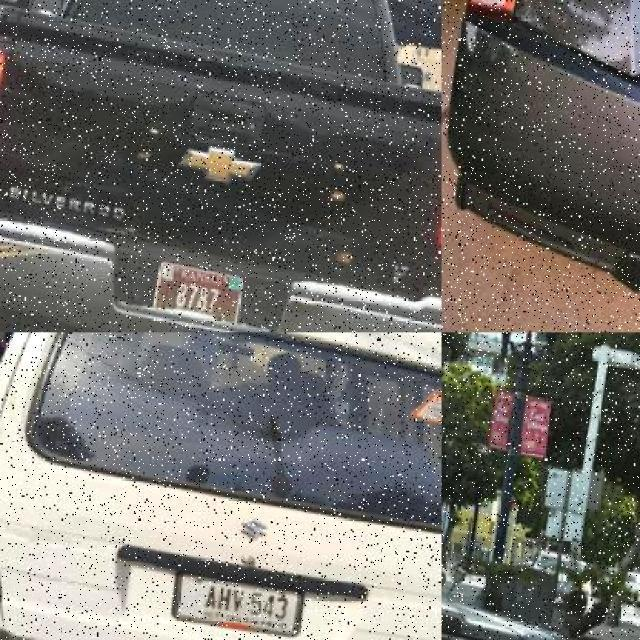LicensePlate: (175, 564, 304, 640), (150, 258, 242, 322)
